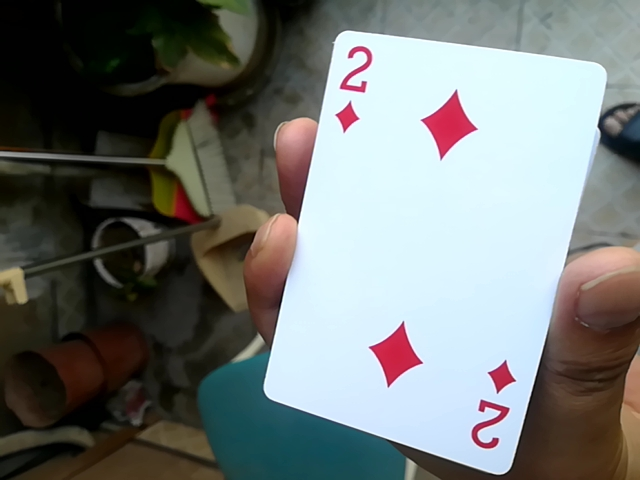fk 2: (233, 41, 614, 459)
